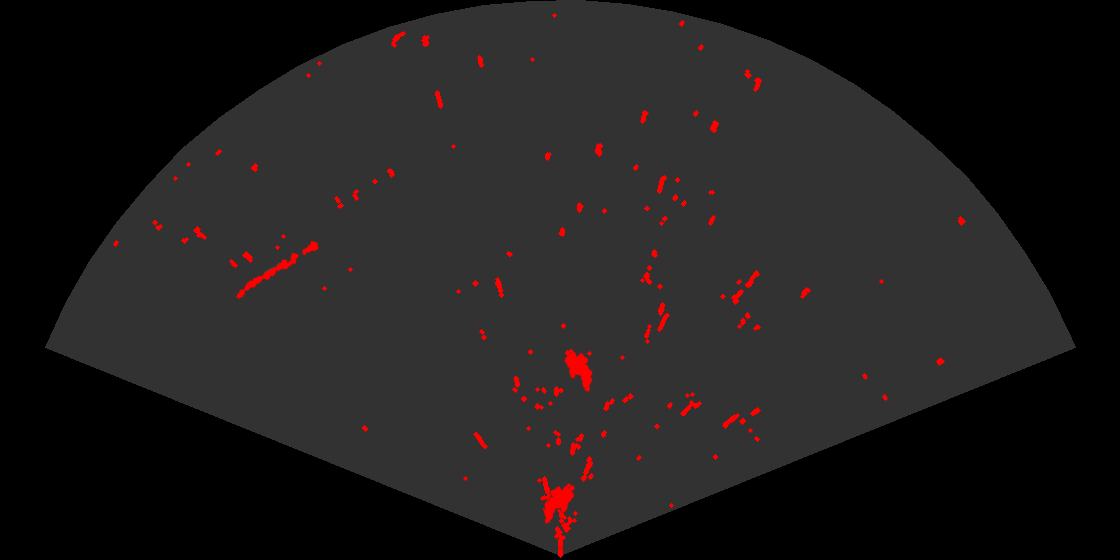AUV: (542, 482, 576, 525), (563, 347, 594, 393)
chain: (235, 239, 320, 300)
